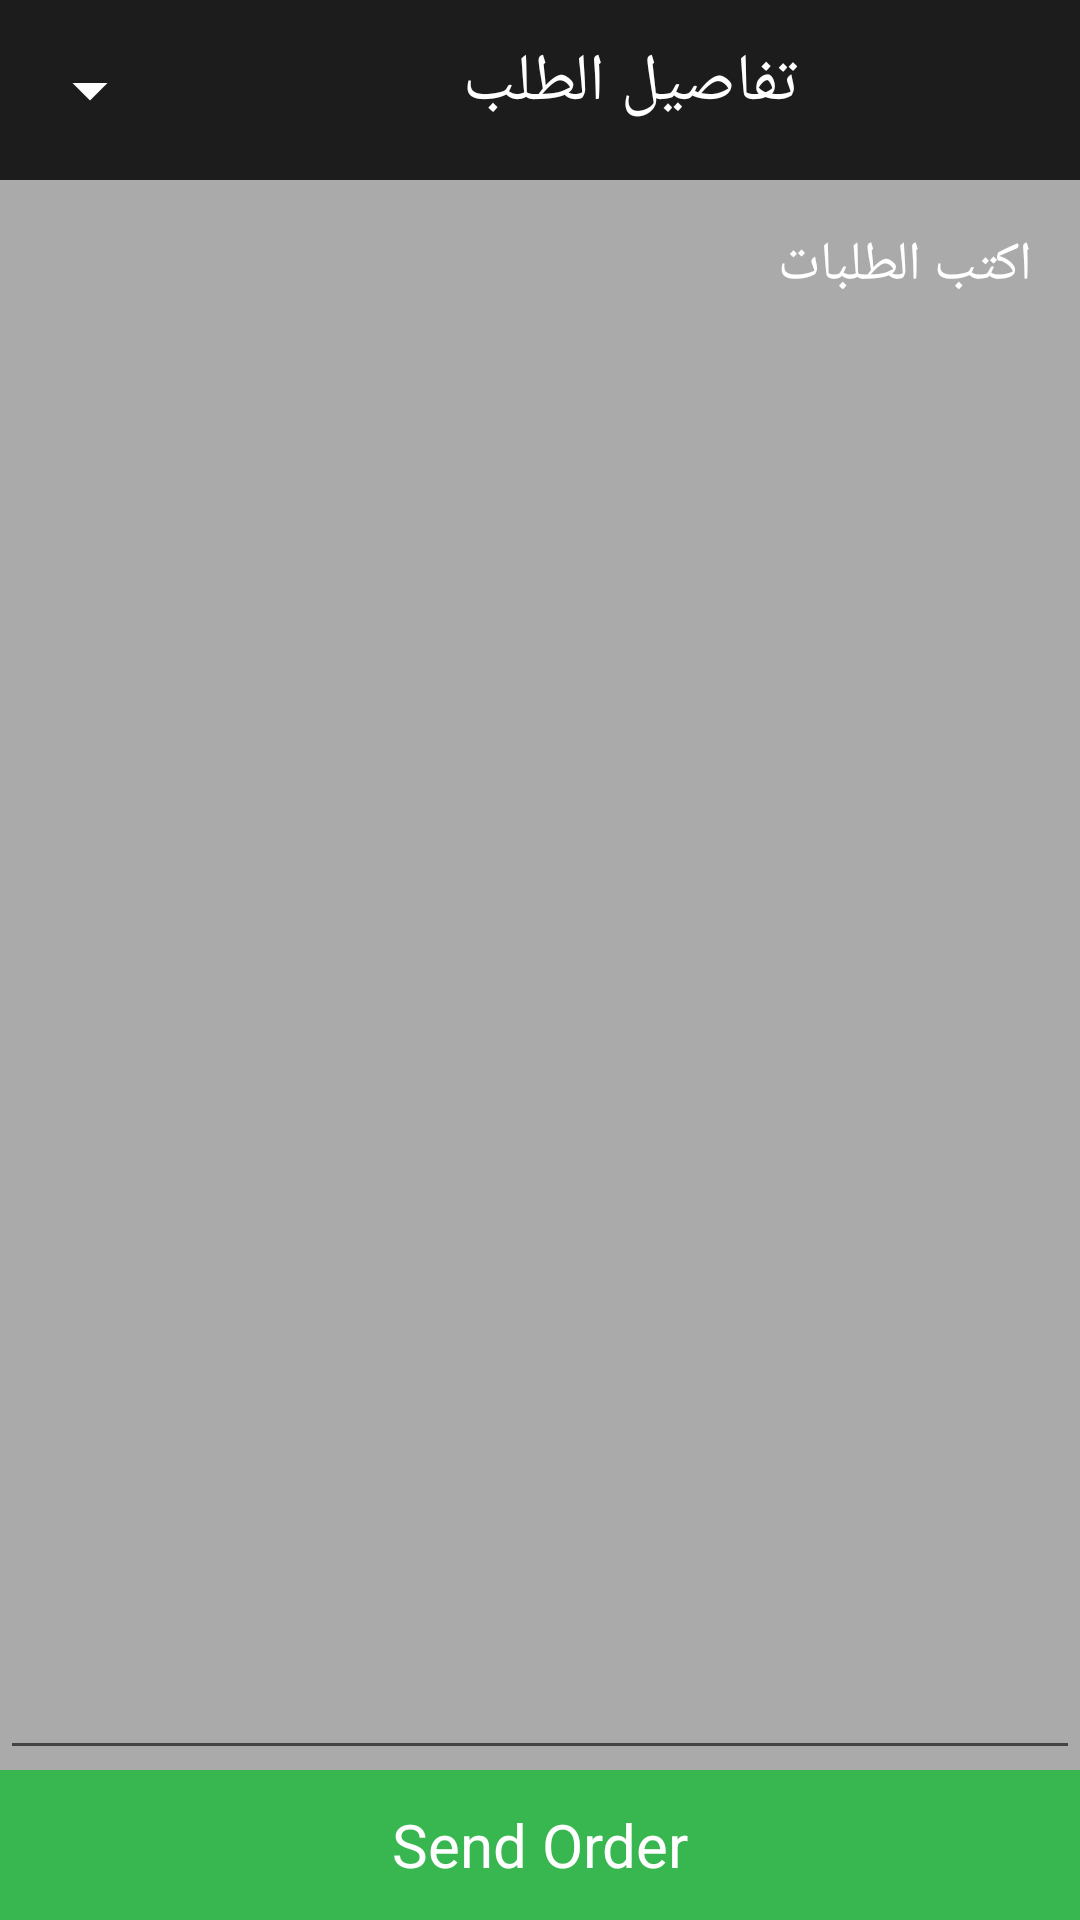

Named icons in this screenshot (1080px×1920px) and their bounding boxes, BBox(x1, y1, x2, y2):
arrow drop down: BBox(72, 83, 108, 101)
